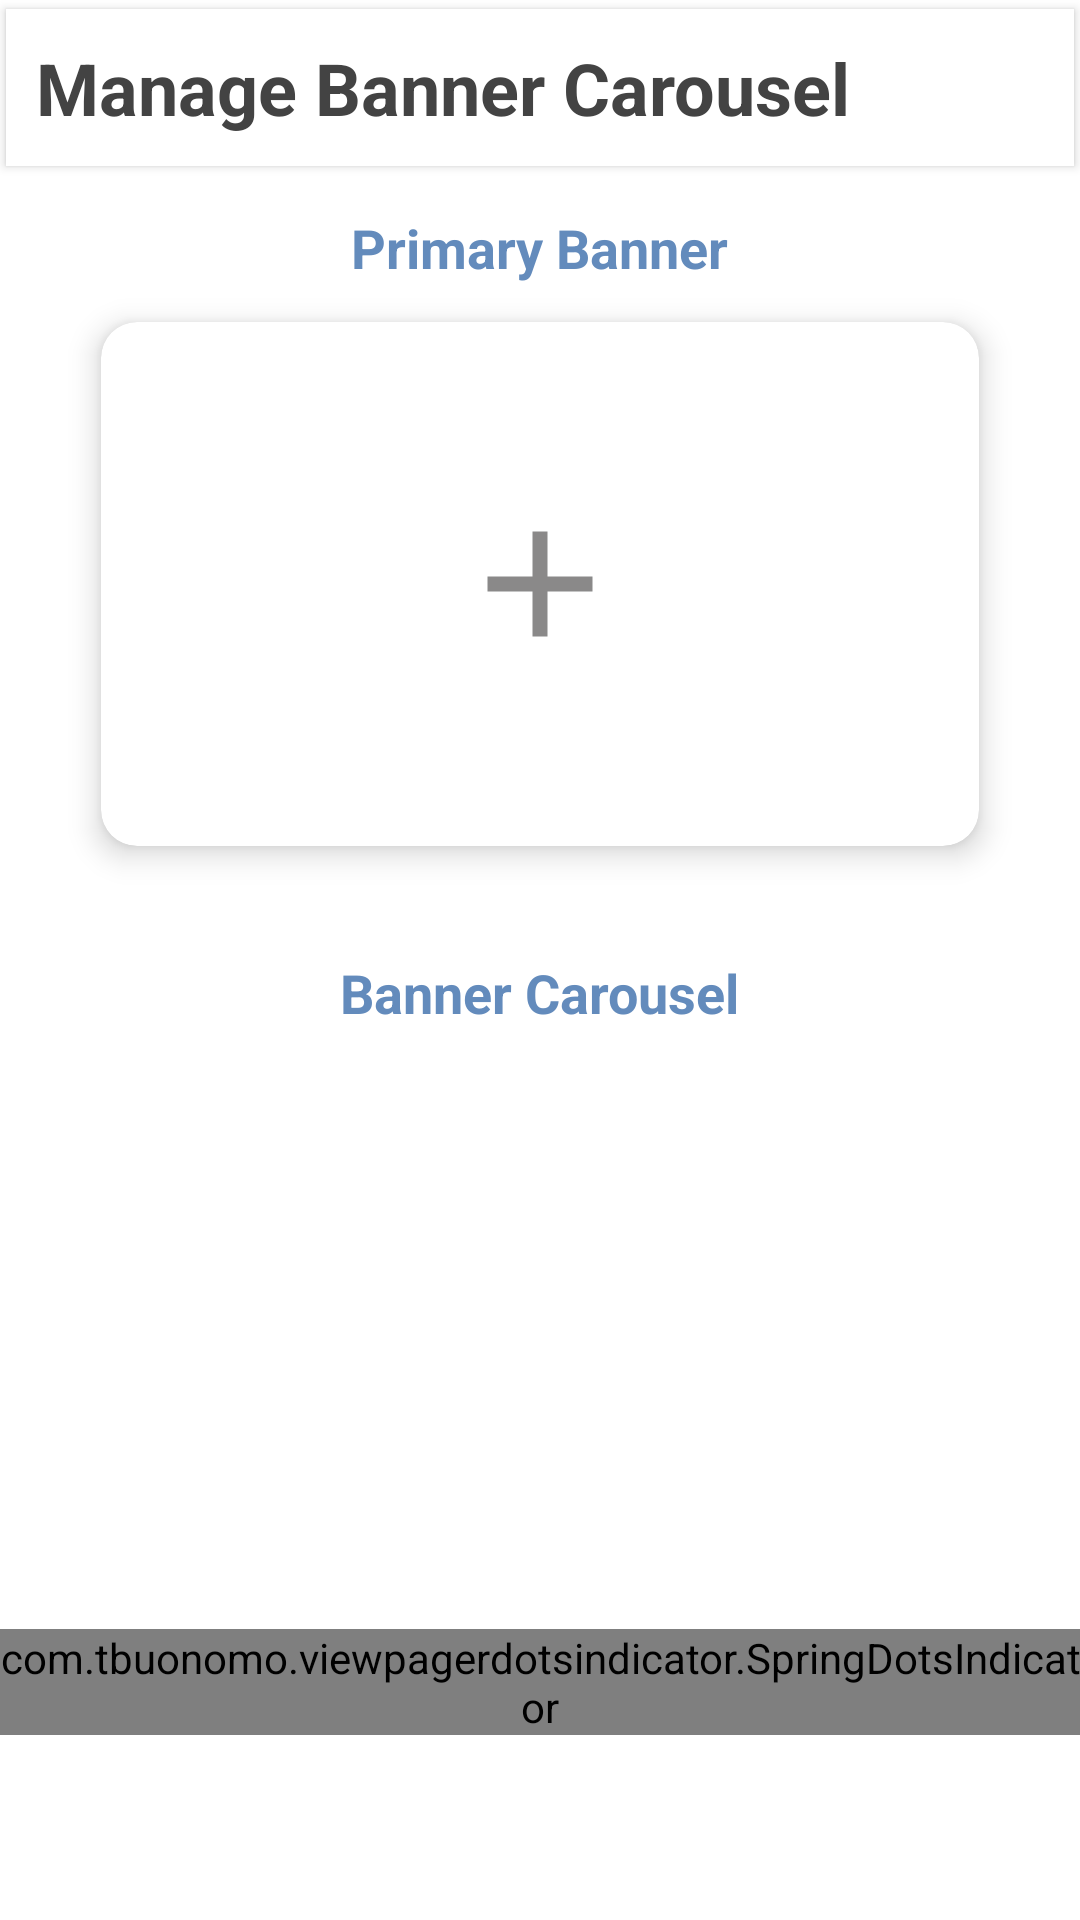

Icons on this 1080*1920 Android screen, each with the point to tap as [x,y]:
add: [540,584]
